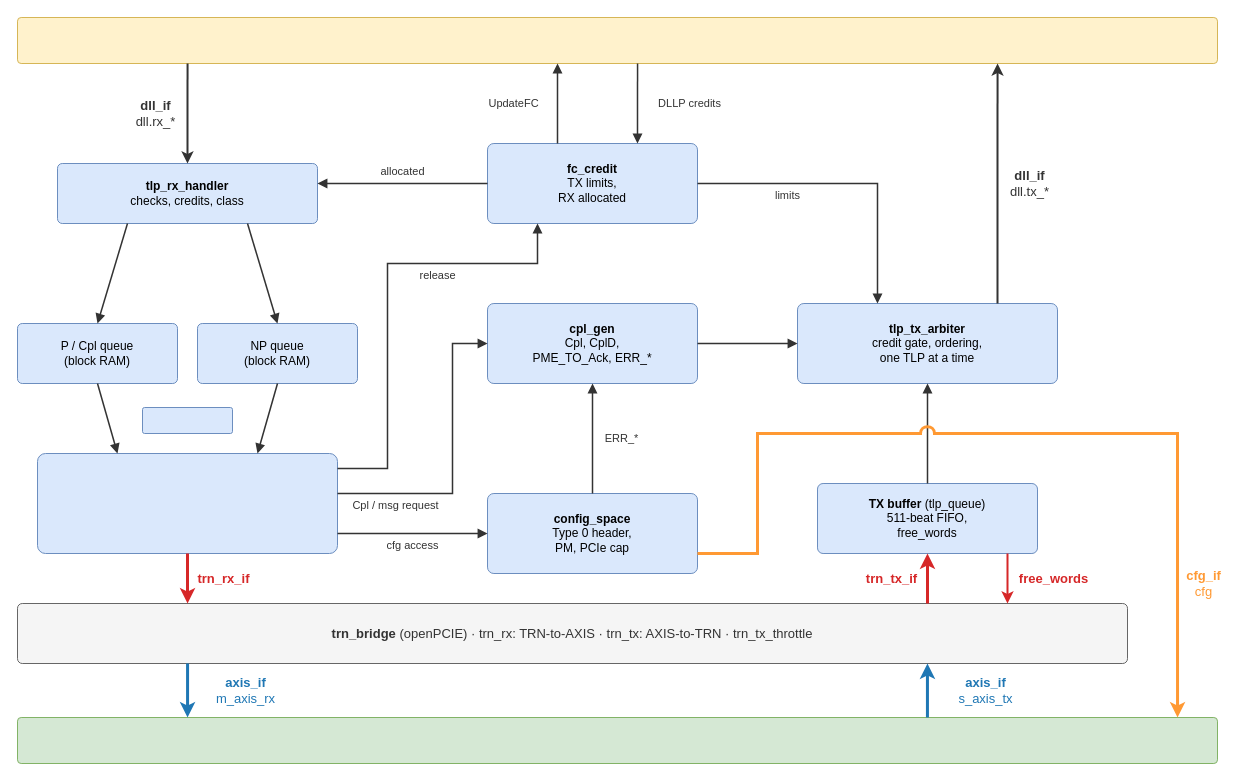
Image size: 1238x781. Some labels were removed from this diagram. Each missing label, with the centre of its shape:
Data Link Layer (dll_if): point (617, 40)
SOC (soc_top): point (617, 740)
tlp_order: point (187, 420)
tlp_rx_dispatch ordering, BAR decode, config, UR, messages: point (187, 503)
